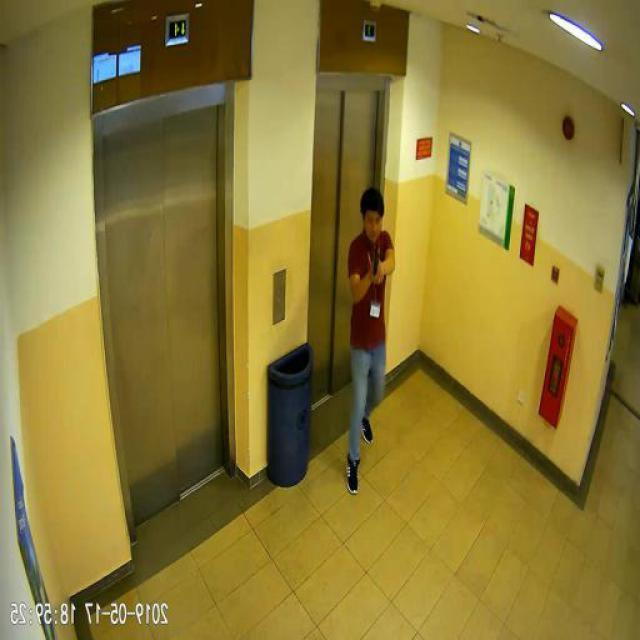weapon: (367, 252, 384, 277)
